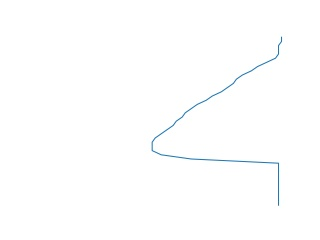meanderPointBar: (147, 36, 288, 208)
